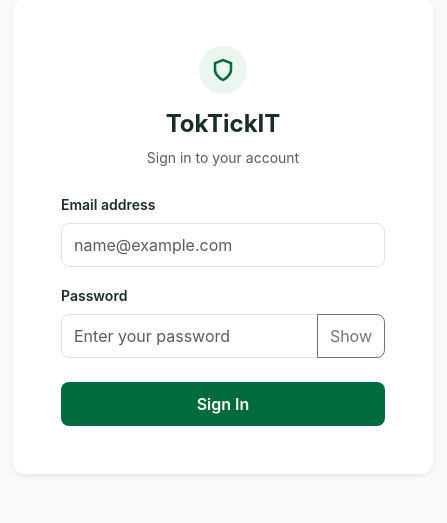
Login Component (UI-01) › displays validation error when submitting empty form
The image size is (447, 523).
Click the button "Sign In" at {"x": 223, "y": 404}, box [61,382,385,426]
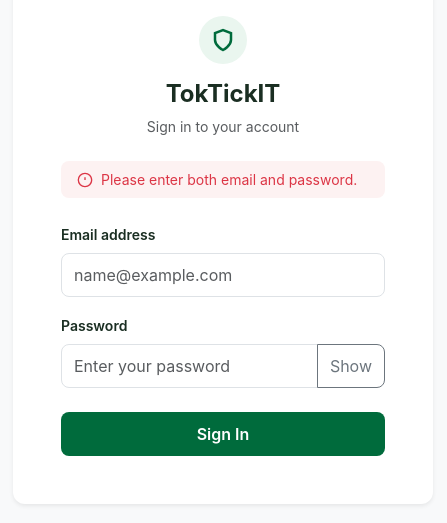
Expected: the message shows "Please enter both email and password", [101,171,357,188]
